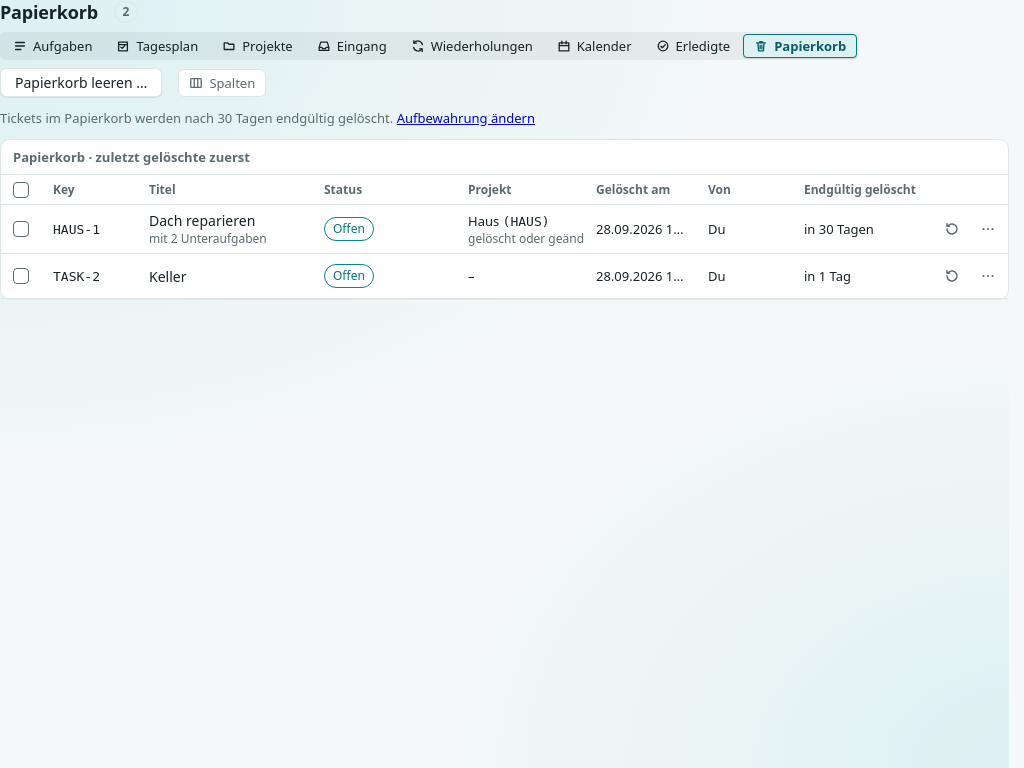
Test case: view "Papierkorb" › empties the whole trash after asking
Click the button "Papierkorb leeren …" at (81, 82), box [0,68,162,97]
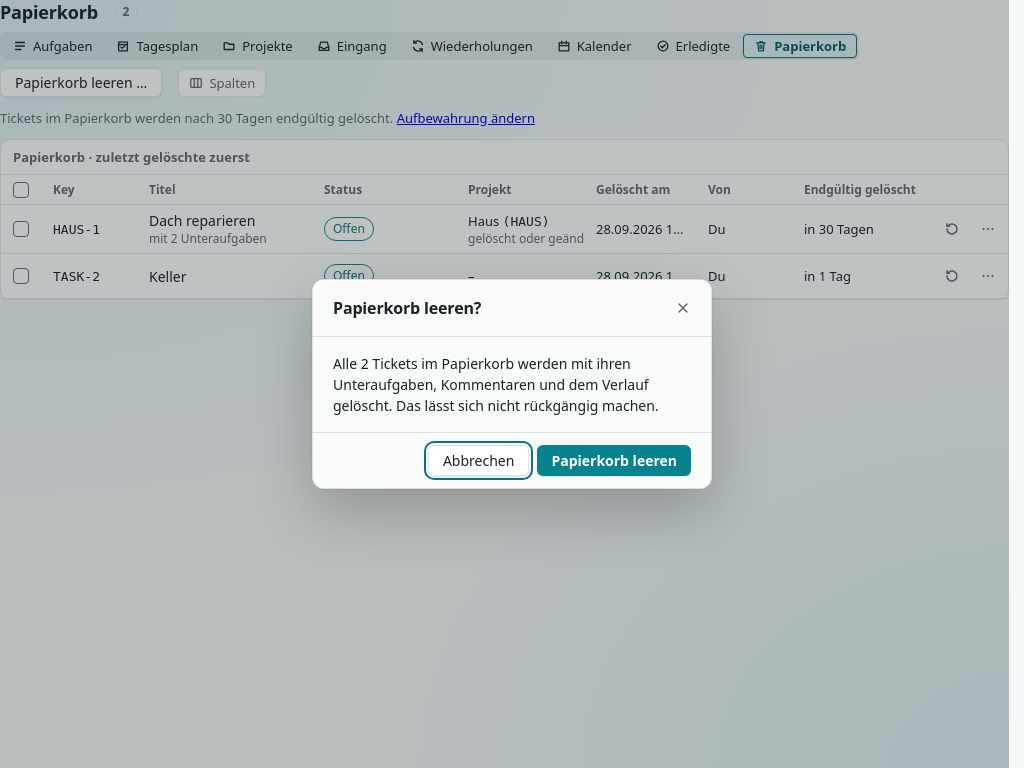
Expected: the text "Alle 2 Tickets im Papierkorb" is shown, [333,354,649,415]
Click the button "Papierkorb leeren" at (614, 460), box [537,445,691,476]
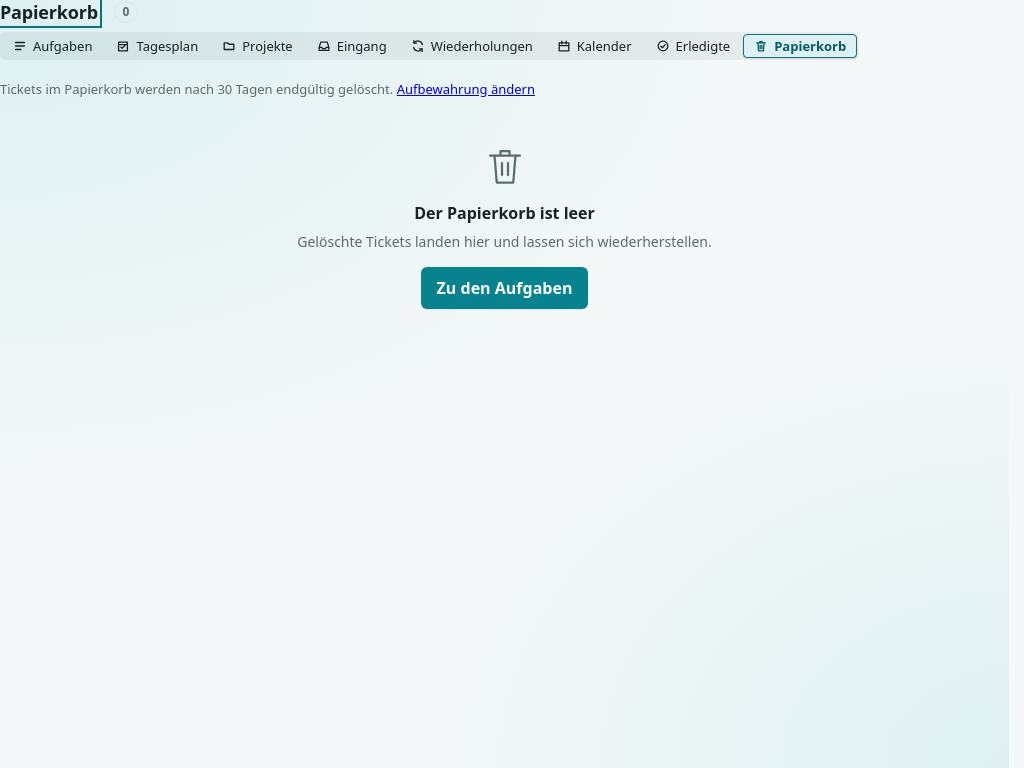
Expected: the heading "Der Papierkorb ist leer" is shown, [414,202,595,224]
